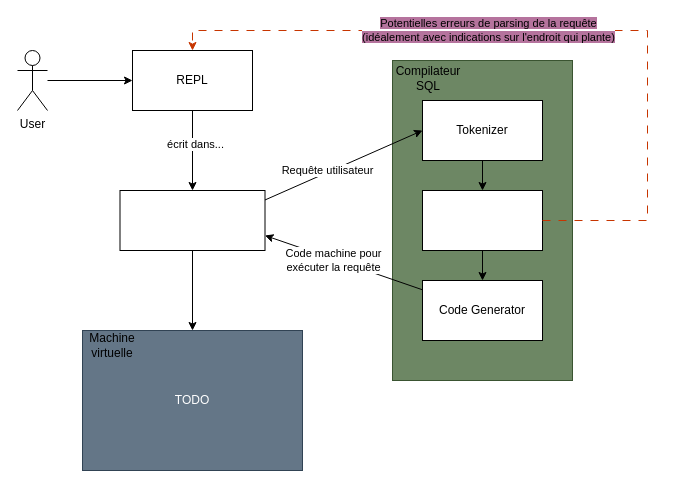
Some shapes in this 673 by 488 pixel diagram are drawn without their labels. Here are the shapes that lost their labels. From the top down, the box of each, then its label:
(119, 190, 265, 250): Buffer (Command processor)
(422, 190, 542, 250): Parser
